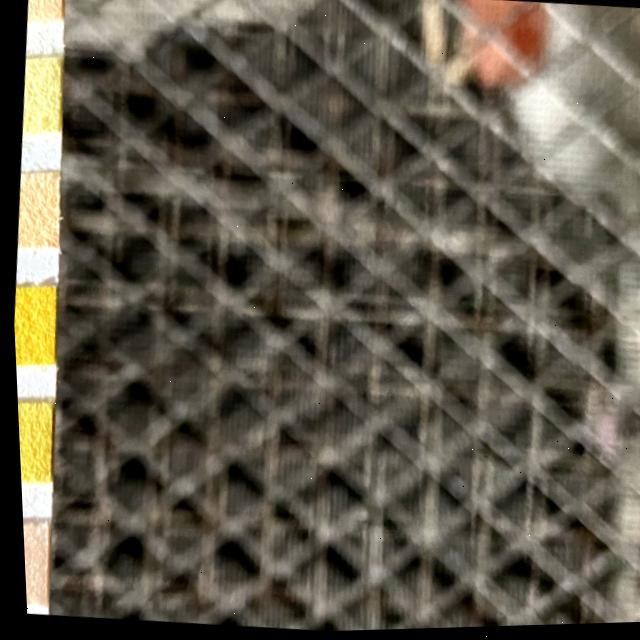Blood: (10, 287, 55, 367)
Ketone: (18, 520, 46, 609)
Protein: (17, 58, 62, 138)
SpGravity: (14, 403, 51, 485)
Urobilinogen: (25, 0, 62, 26)
pH: (11, 169, 60, 249)
